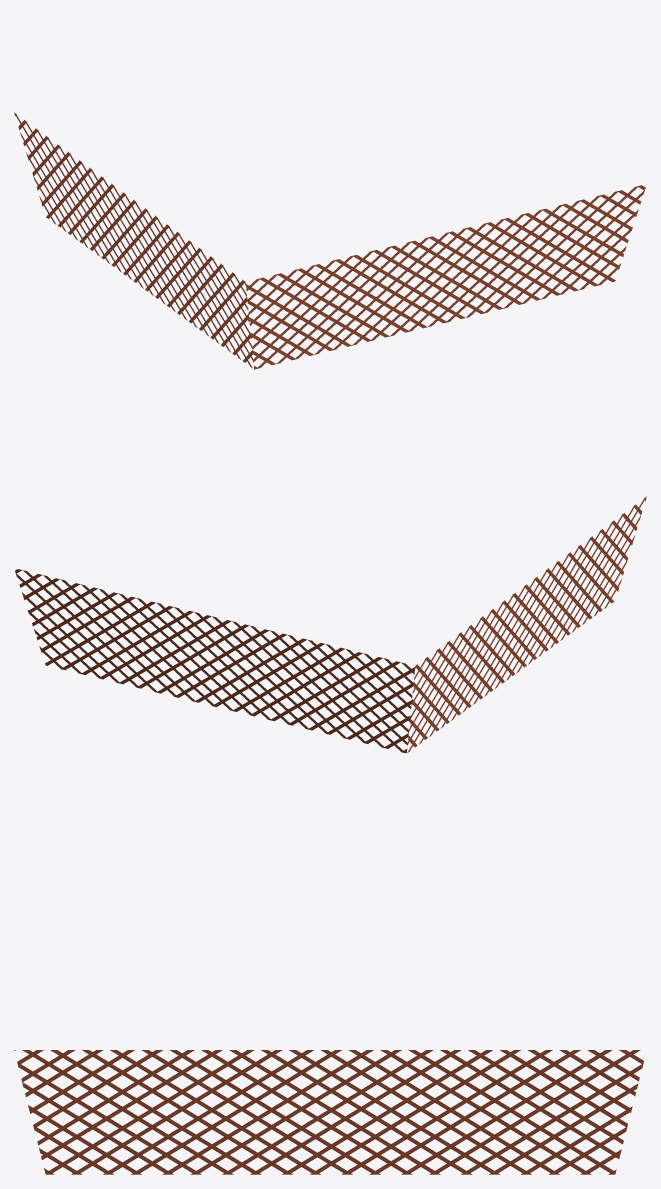
The model's file is kd_stage_135c43_4_160_bounded.glb.
3 views of the same model, one above another, from view 1: azimuth 30°, elevation 25°; view 2: azimuth 150°, elevation 25°; view 3: azimuth 270°, elevation 25° (orthographic). The views are drawn at different scales.
Parts seen in each view (by area): view 1: kd_stage_135c43_4_160_bounded; view 2: kd_stage_135c43_4_160_bounded; view 3: kd_stage_135c43_4_160_bounded.
Part boxes in pixels (box(x1,y1,x2,y2)): kd_stage_135c43_4_160_bounded: box(14, 112, 645, 369); kd_stage_135c43_4_160_bounded: box(15, 496, 646, 753); kd_stage_135c43_4_160_bounded: box(14, 1050, 643, 1174).
Bounding box in the file's own units: 0.3767 × 0.0907 × 0.3767.
1 material, 1 textured.
